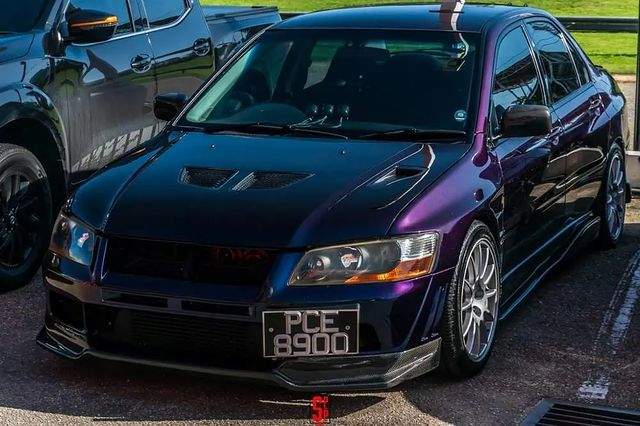License-Plate: (263, 312, 357, 358)
